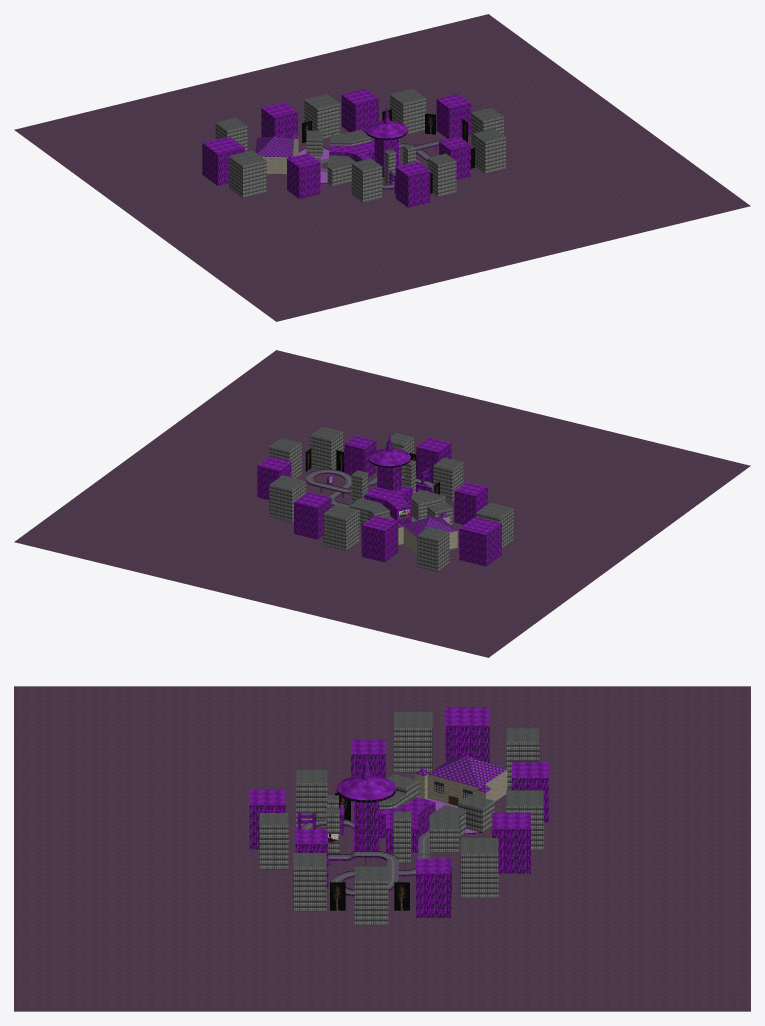
3 renders of one model, top to bottom at view 1: azimuth 30°, elevation 25°; view 2: azimuth 150°, elevation 25°; view 3: azimuth 270°, elevation 25°, orthographic. The views are drawn at different scales.
Parts seen in each view (by area): view 1: Monstropolis_SKP__Offroad.001, Monstropolis_SKP__Building.001, Monstropolis_SKP__Building2.001, Monstropolis_SKP__Base.001, Monstropolis_SKP__Base2.001, Monstropolis_SKP__Roof.001, Monstropolis_SKP__Tree.001; view 2: Monstropolis_SKP__Offroad.001, Monstropolis_SKP__Building.001, Monstropolis_SKP__Building2.001, Monstropolis_SKP__Base.001, Monstropolis_SKP__Base2.001, Monstropolis_SKP__Road.001, Monstropolis_SKP__Roof.001, Monstropolis_SKP__Brick.001; view 3: Monstropolis_SKP__Offroad.001, Monstropolis_SKP__Building.001, Monstropolis_SKP__Building2.001, Monstropolis_SKP__Base.001, Monstropolis_SKP__Base2.001, Monstropolis_SKP__Roof.001, Monstropolis_SKP__Brick.001, Monstropolis_SKP__Road.001, Monstropolis_SKP__Tree.001.
Boxes of the visible parts, <box> form: Monstropolis_SKP__Offroad.001: <box>14,14,750,321</box>; Monstropolis_SKP__Building.001: <box>215,94,505,202</box>; Monstropolis_SKP__Building2.001: <box>202,95,471,207</box>; Monstropolis_SKP__Base.001: <box>202,89,470,193</box>; Monstropolis_SKP__Base2.001: <box>216,88,505,170</box>; Monstropolis_SKP__Roof.001: <box>255,133,298,158</box>; Monstropolis_SKP__Tree.001: <box>302,109,474,193</box>; Monstropolis_SKP__Offroad.001: <box>14,350,750,657</box>; Monstropolis_SKP__Building.001: <box>269,432,513,571</box>; Monstropolis_SKP__Building2.001: <box>257,441,501,566</box>; Monstropolis_SKP__Base.001: <box>257,435,501,534</box>; Monstropolis_SKP__Base2.001: <box>269,427,513,540</box>; Monstropolis_SKP__Road.001: <box>305,469,433,521</box>; Monstropolis_SKP__Roof.001: <box>398,512,457,537</box>; Monstropolis_SKP__Brick.001: <box>398,516,457,554</box>; Monstropolis_SKP__Offroad.001: <box>14,686,750,1011</box>; Monstropolis_SKP__Building.001: <box>259,728,543,925</box>; Monstropolis_SKP__Building2.001: <box>249,725,548,917</box>; Monstropolis_SKP__Base.001: <box>249,707,548,896</box>; Monstropolis_SKP__Base2.001: <box>259,711,543,880</box>; Monstropolis_SKP__Roof.001: <box>415,755,506,792</box>; Monstropolis_SKP__Brick.001: <box>415,770,507,803</box>; Monstropolis_SKP__Road.001: <box>301,820,429,894</box>; Monstropolis_SKP__Tree.001: <box>330,793,451,910</box>.
Bounding box in the file's own units: 236332 × 30695 × 226361.
Materials: 24 (24 with a texture image).
